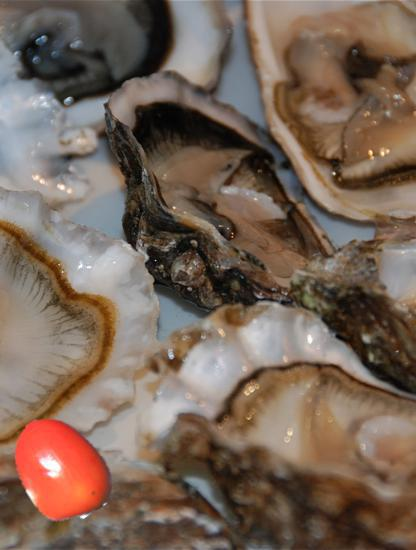Kaki: (6, 413, 116, 523)
